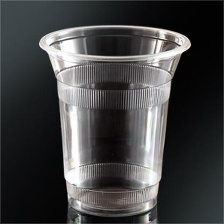glass: (32, 20, 195, 221)
